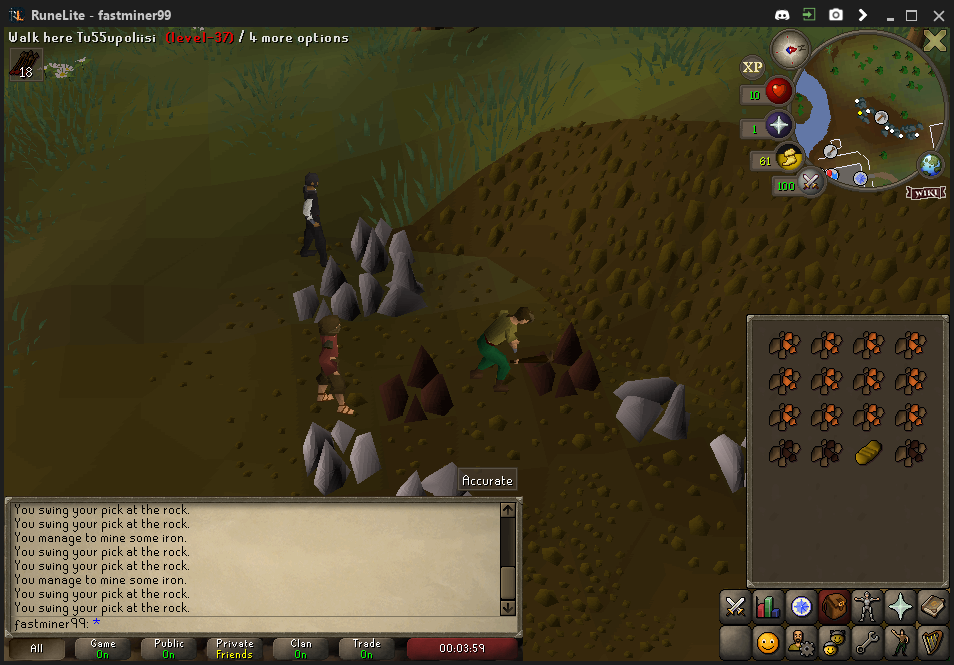ore: (375, 343, 456, 418), (522, 323, 600, 396)
